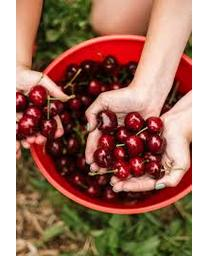cherry: (17, 114, 39, 136), (145, 133, 165, 156), (128, 155, 147, 179), (111, 158, 131, 180), (28, 86, 48, 107), (98, 109, 117, 131), (94, 147, 113, 168), (145, 116, 164, 136), (144, 160, 164, 179), (124, 136, 142, 157), (39, 117, 57, 138), (98, 134, 117, 153), (124, 112, 142, 132), (64, 134, 80, 152), (69, 172, 86, 188), (86, 80, 100, 94)
